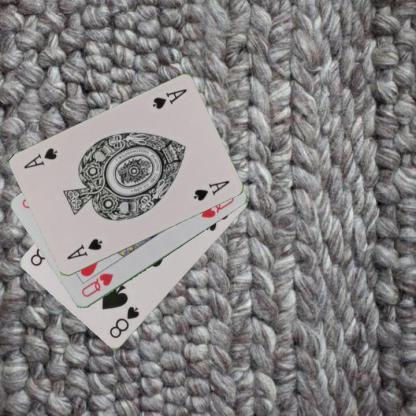8s: (106, 304, 141, 340)
As: (64, 236, 104, 261), (150, 86, 188, 111)
Qh: (79, 270, 115, 300)
